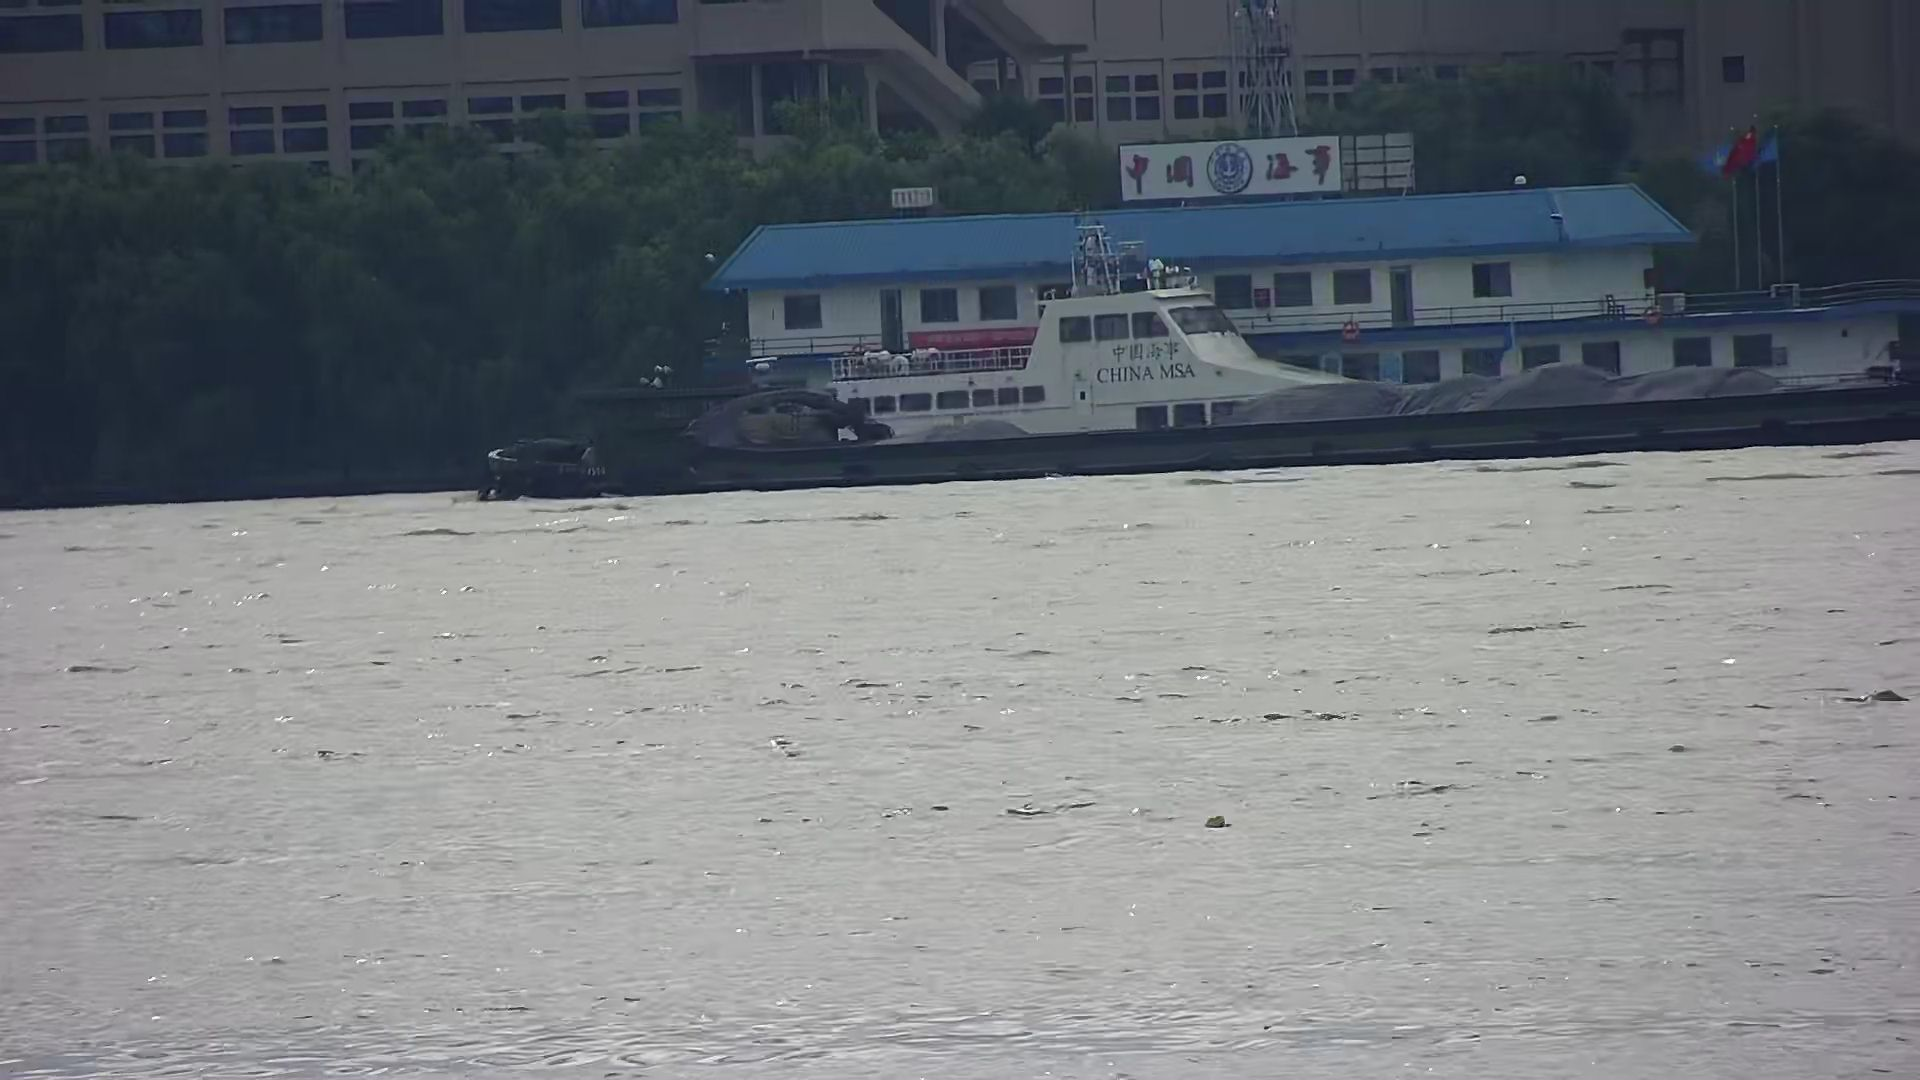boat: (617, 215, 1387, 440)
ship: (448, 349, 1915, 483)
